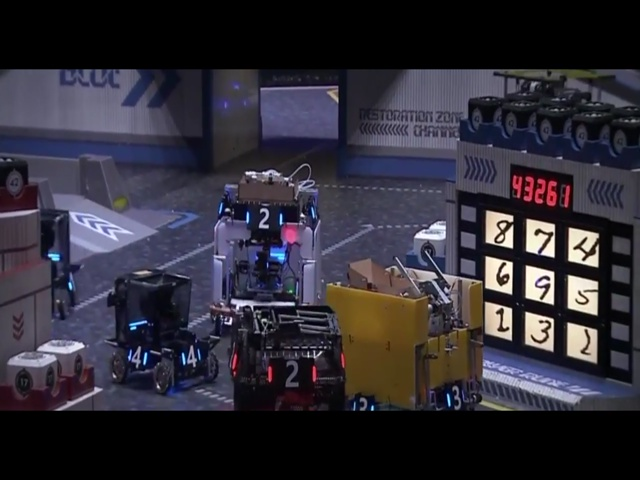bluePlate: (122, 339, 156, 376), (243, 208, 286, 231), (443, 379, 469, 411), (177, 346, 204, 368), (349, 394, 381, 412)
redPlate: (263, 352, 321, 389), (225, 335, 240, 378)
